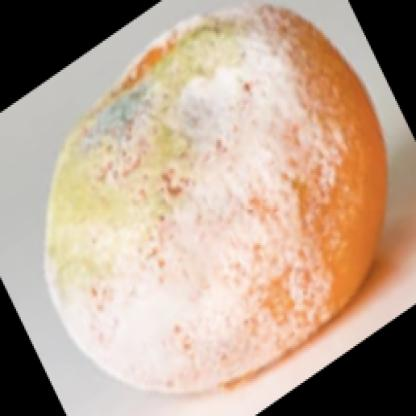rotten: (50, 7, 388, 394)
